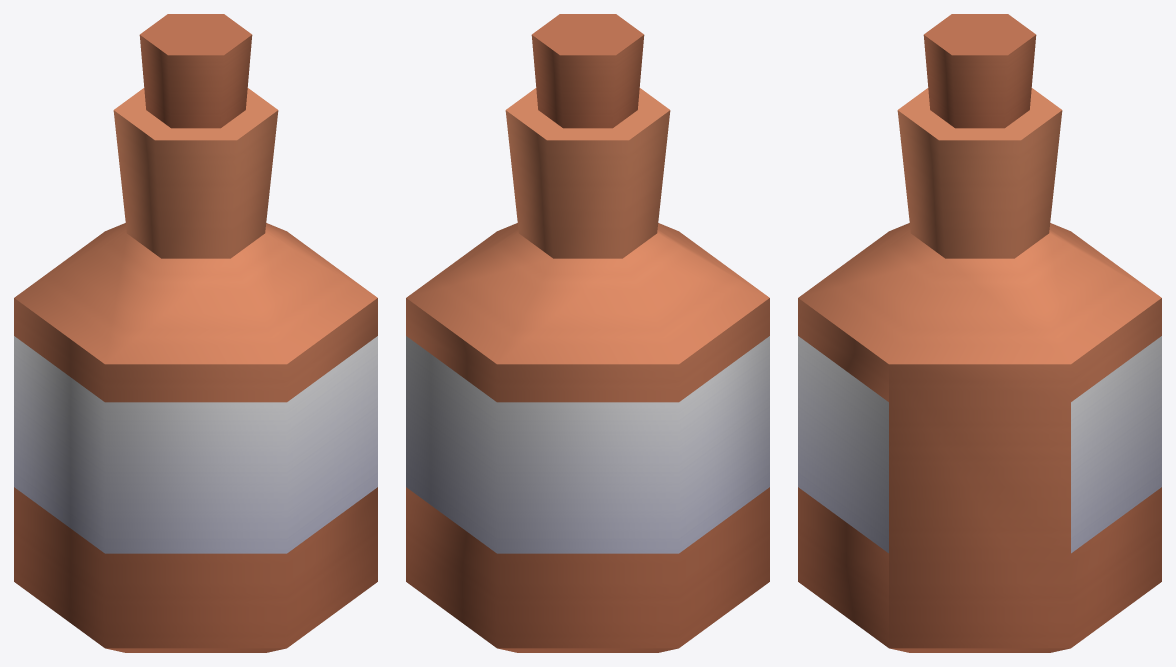
Rendered from bottle-large.obj.
3 views of the same model, side by side, from view 1: azimuth 30°, elevation 25°; view 2: azimuth 150°, elevation 25°; view 3: azimuth 270°, elevation 25° (orthographic).
Visible parts, largest first — view 1: bottle-large; view 2: bottle-large; view 3: bottle-large.
Boxes of the visible parts, <box> form: bottle-large: <box>14,14,377,652</box>; bottle-large: <box>406,14,769,652</box>; bottle-large: <box>798,14,1161,652</box>.
Size of the model in its own units: 0.0724 by 0.1439 by 0.0837.
Materials: 1 (1 with a texture image).
